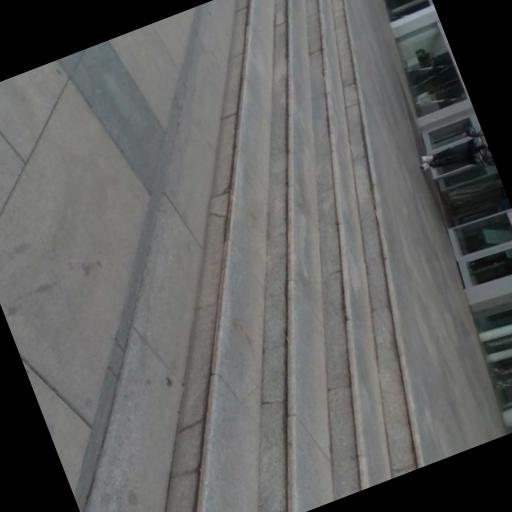stairs: (164, 0, 421, 511)
